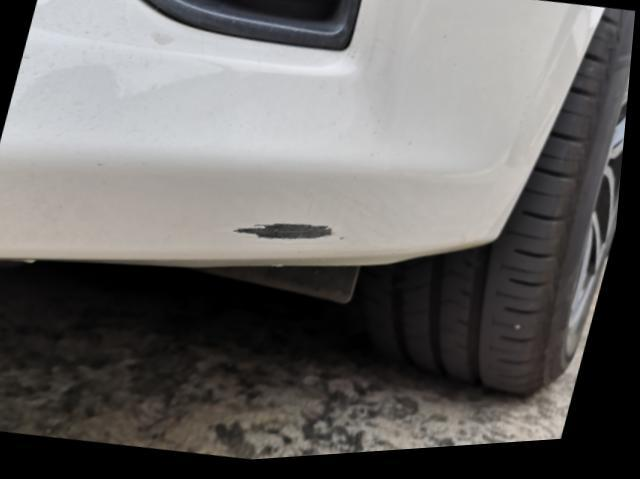scratch: (229, 221, 348, 248)
